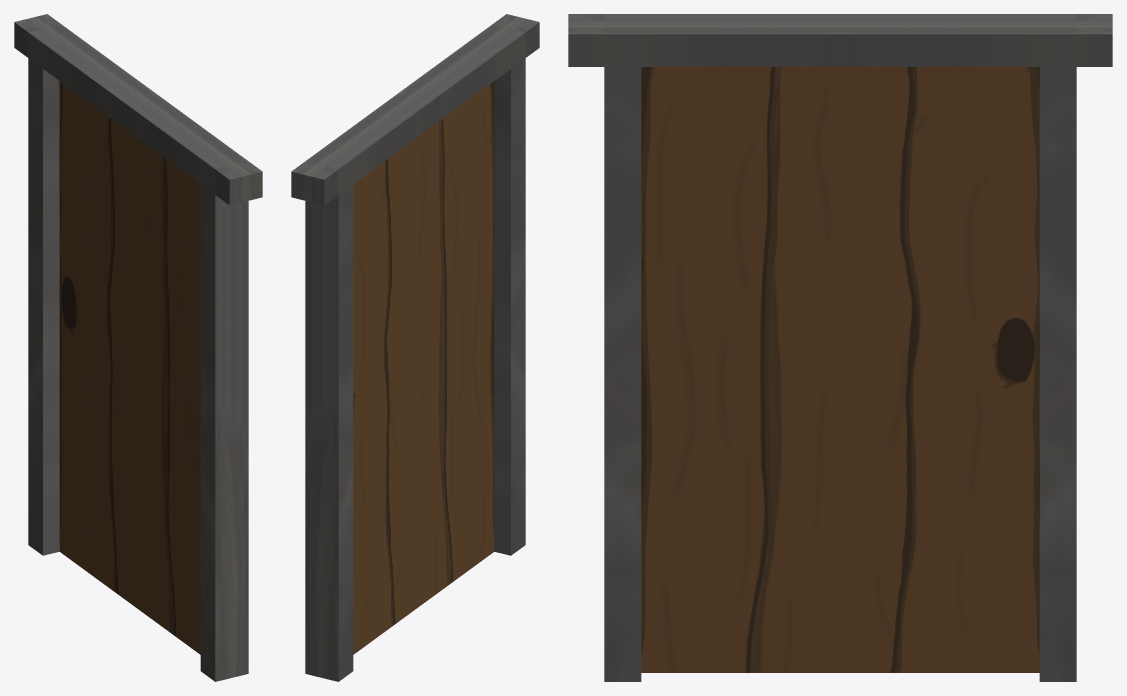
The model's file is DoorWay_02.fbx.
3 renders of one model, left to right at view 1: azimuth 30°, elevation 25°; view 2: azimuth 150°, elevation 25°; view 3: azimuth 270°, elevation 25°, orthographic. The views are drawn at different scales.
Visible parts, largest first — view 1: Plane.001, Cube.001; view 2: Plane.001, Cube.001; view 3: Plane, Cube.001.
Boxes of the visible parts, x1,y1,x2,y2 form: Plane.001: (59,81,200,654); Cube.001: (14,14,262,681); Plane.001: (353,81,494,654); Cube.001: (291,14,539,681); Plane: (641,67,1039,672); Cube.001: (568,14,1112,681).
Bounding box in the file's own units: 41.06 × 605 × 461.
3 materials, 3 textured.
